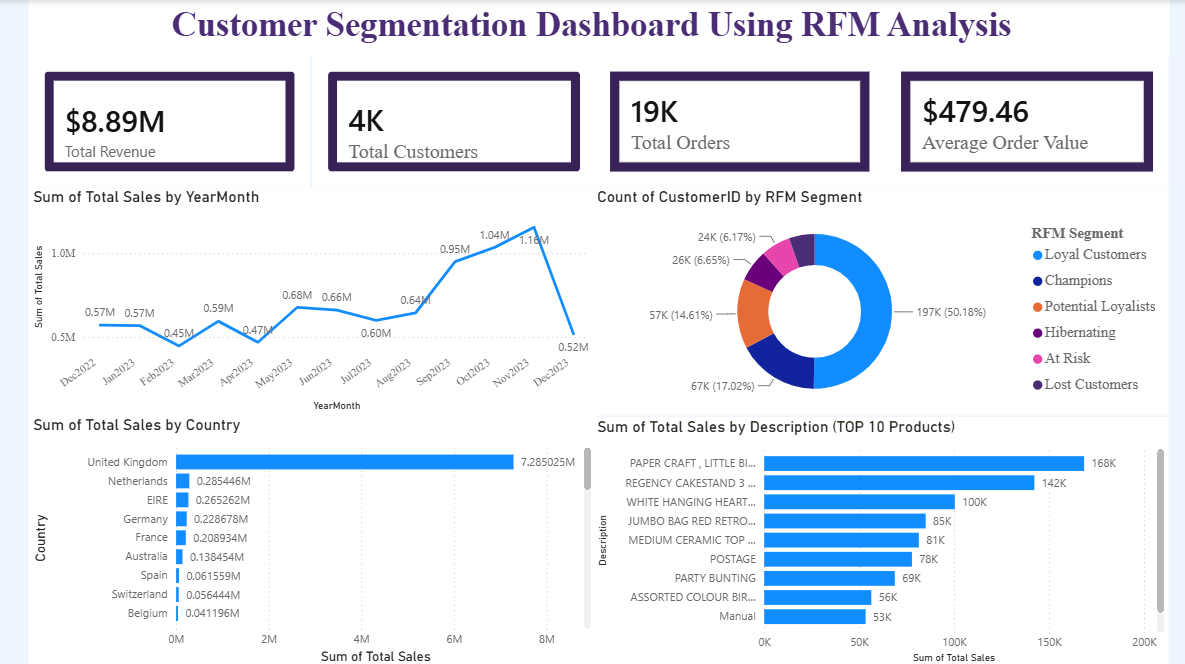

This screenshot's page, from the dashboard's own definition file:
{"tool":"powerbi","page":{"name":"Page 1","canvas":[1280,720],"ordinal":0},"visuals":[{"type":"cardVisual","fields":{"Data":["Table1.Total Customers"]},"box":[336,60,306,142],"z":0},{"type":"cardVisual","fields":{"Data":["Table1.Total Orders"]},"box":[642,60,314,142],"z":1000},{"type":"cardVisual","fields":{"Data":["Table1.Average Order Value"]},"box":[956,60,306,142],"z":2000},{"type":"lineChart","fields":{"Category":["Table1.YearMonth"],"Y":["Sum(Table1.Total Sales)"]},"box":[30,202,610,246],"z":3000},{"type":"donutChart","fields":{"Y":["CountNonNull(Table1.CustomerID)"],"Category":["Table1.RFM Segment"]},"box":[640,202,622,246],"z":4000},{"type":"clusteredBarChart","fields":{"Category":["Table1.Country"],"Y":["Sum(Table1.Total Sales)"]},"box":[30,448,612,272],"z":5000},{"type":"clusteredBarChart","title":"Sum of Total Sales by Description (TOP 10 Products)","fields":{"Category":["Table1.Description"],"Y":["Sum(Table1.Total Sales)"]},"box":[640,450,622,270],"z":6000},{"type":"textbox","box":[30,0,1232,60],"z":7000},{"type":"cardVisual","fields":{"Data":["Table1.Total Revenue"]},"box":[30,60,304,142],"z":8000}]}

Visuals, with their boxes in screenshot pixels (x1, y1, x2, y2), scaled from the page's 1280x720 canvas onto the 1185x664 screenshot:
cardVisual - Table1.Total Customers: {"x1": 311, "y1": 55, "x2": 594, "y2": 186}
cardVisual - Table1.Total Orders: {"x1": 594, "y1": 55, "x2": 885, "y2": 186}
cardVisual - Table1.Average Order Value: {"x1": 885, "y1": 55, "x2": 1168, "y2": 186}
lineChart - Table1.YearMonth x Sum(Table1.Total Sales): {"x1": 28, "y1": 186, "x2": 592, "y2": 413}
donutChart - CountNonNull(Table1.CustomerID) x Table1.RFM Segment: {"x1": 592, "y1": 186, "x2": 1168, "y2": 413}
clusteredBarChart - Table1.Country x Sum(Table1.Total Sales): {"x1": 28, "y1": 413, "x2": 594, "y2": 663}
"Sum of Total Sales by Description (TOP 10 Products)" clusteredBarChart: {"x1": 592, "y1": 415, "x2": 1168, "y2": 663}
textbox: {"x1": 28, "y1": 0, "x2": 1168, "y2": 55}
cardVisual - Table1.Total Revenue: {"x1": 28, "y1": 55, "x2": 309, "y2": 186}
